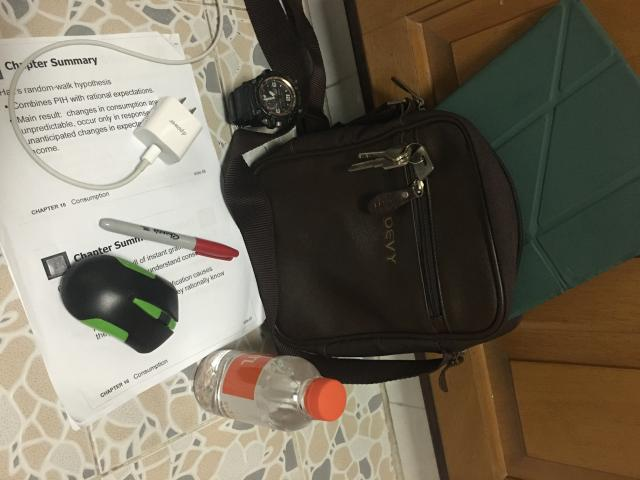Keys: (349, 142, 434, 181)
Mouse: (60, 255, 179, 354)
Pen: (99, 219, 239, 260)
Watch: (228, 69, 305, 135)
bottle: (194, 350, 346, 431)
paper: (0, 32, 264, 429)
wire: (9, 2, 222, 190)
